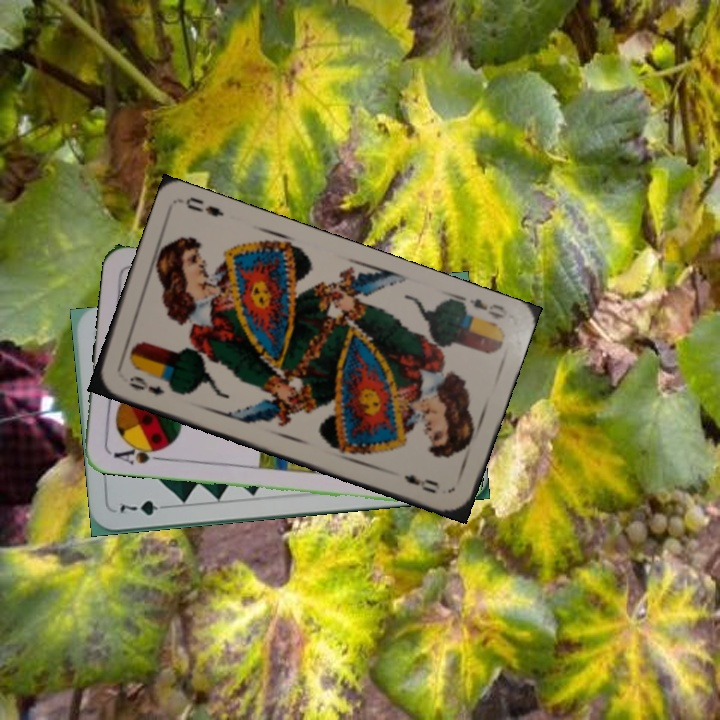EO: (453, 291, 511, 328), (124, 371, 167, 398)
G7: (116, 496, 173, 518)
SA: (109, 440, 168, 467)
